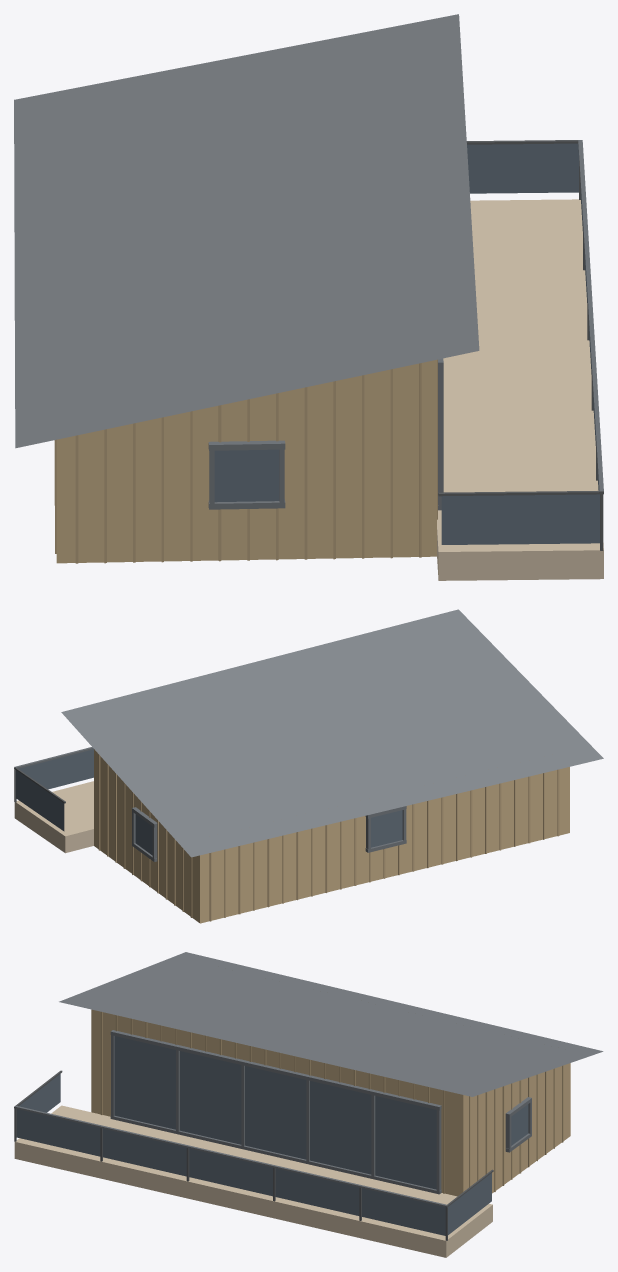
3 renders of one model, top to bottom at view 1: azimuth 30°, elevation 25°; view 2: azimuth 150°, elevation 25°; view 3: azimuth 270°, elevation 25°, orthographic. The views are drawn at different scales.
Visible parts, largest first — view 1: slate, door_wood, larch, window_glass_006, door_wood_p, window_glass_007, slate_dk, window_glass_015, pipe; view 2: slate, door_wood, door_wood_p, larch, window_glass_005, slate_dk, window_glass_007, window_glass_014, window_glass_013; view 3: slate, door_wood, larch, slate_dk, window_glass_009, window_glass_010, window_glass_011, window_glass_012, window_glass_008, door_wood_p, window_glass_001, window_glass_004 (+7 smaller).
Boxes of the visible parts, box(x1,y1,x2,y2) form: slate: box(14, 14, 479, 448); door_wood: box(56, 360, 436, 563); larch: box(437, 199, 603, 580); window_glass_006: box(441, 494, 599, 544); door_wood_p: box(54, 359, 437, 563); window_glass_007: box(467, 143, 578, 193); slate_dk: box(208, 140, 603, 510); window_glass_015: box(214, 449, 279, 502); pipe: box(438, 140, 603, 550); slate: box(61, 609, 603, 857); door_wood: box(94, 749, 569, 923); door_wood_p: box(98, 754, 559, 921); larch: box(14, 781, 93, 853); window_glass_005: box(18, 749, 93, 789); slate_dk: box(15, 747, 406, 861); window_glass_007: box(16, 770, 64, 831); window_glass_014: box(371, 810, 402, 847); window_glass_013: box(135, 814, 152, 855); slate: box(59, 952, 603, 1096); door_wood: box(91, 1009, 570, 1196); larch: box(14, 1105, 492, 1257); slate_dk: box(14, 1030, 531, 1207); window_glass_009: box(180, 1051, 241, 1144); window_glass_010: box(245, 1066, 306, 1159); window_glass_011: box(310, 1081, 371, 1174); window_glass_012: box(375, 1096, 436, 1189); window_glass_008: box(114, 1036, 175, 1129); door_wood_p: box(100, 1011, 563, 1193); window_glass_001: box(16, 1109, 100, 1156); window_glass_004: box(275, 1168, 359, 1215).
Size of the model in its own units: 14.3 by 3.86 by 15.68.
